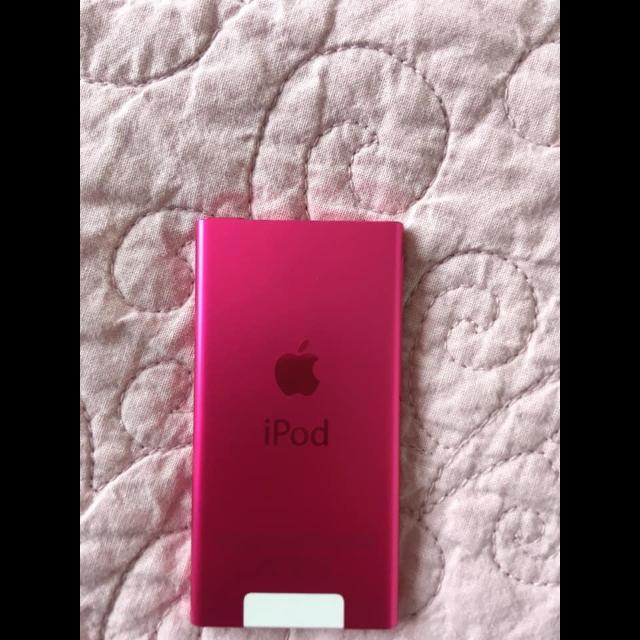Music-Player: (185, 207, 411, 637)
